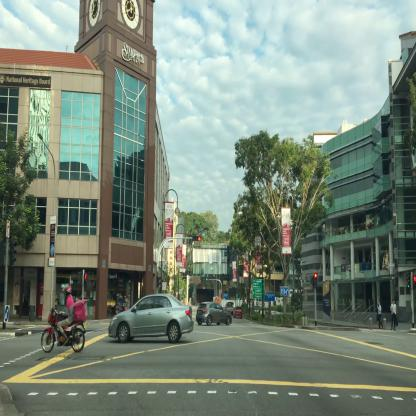red_traffic_light: (192, 236, 200, 241), (315, 271, 317, 286)
